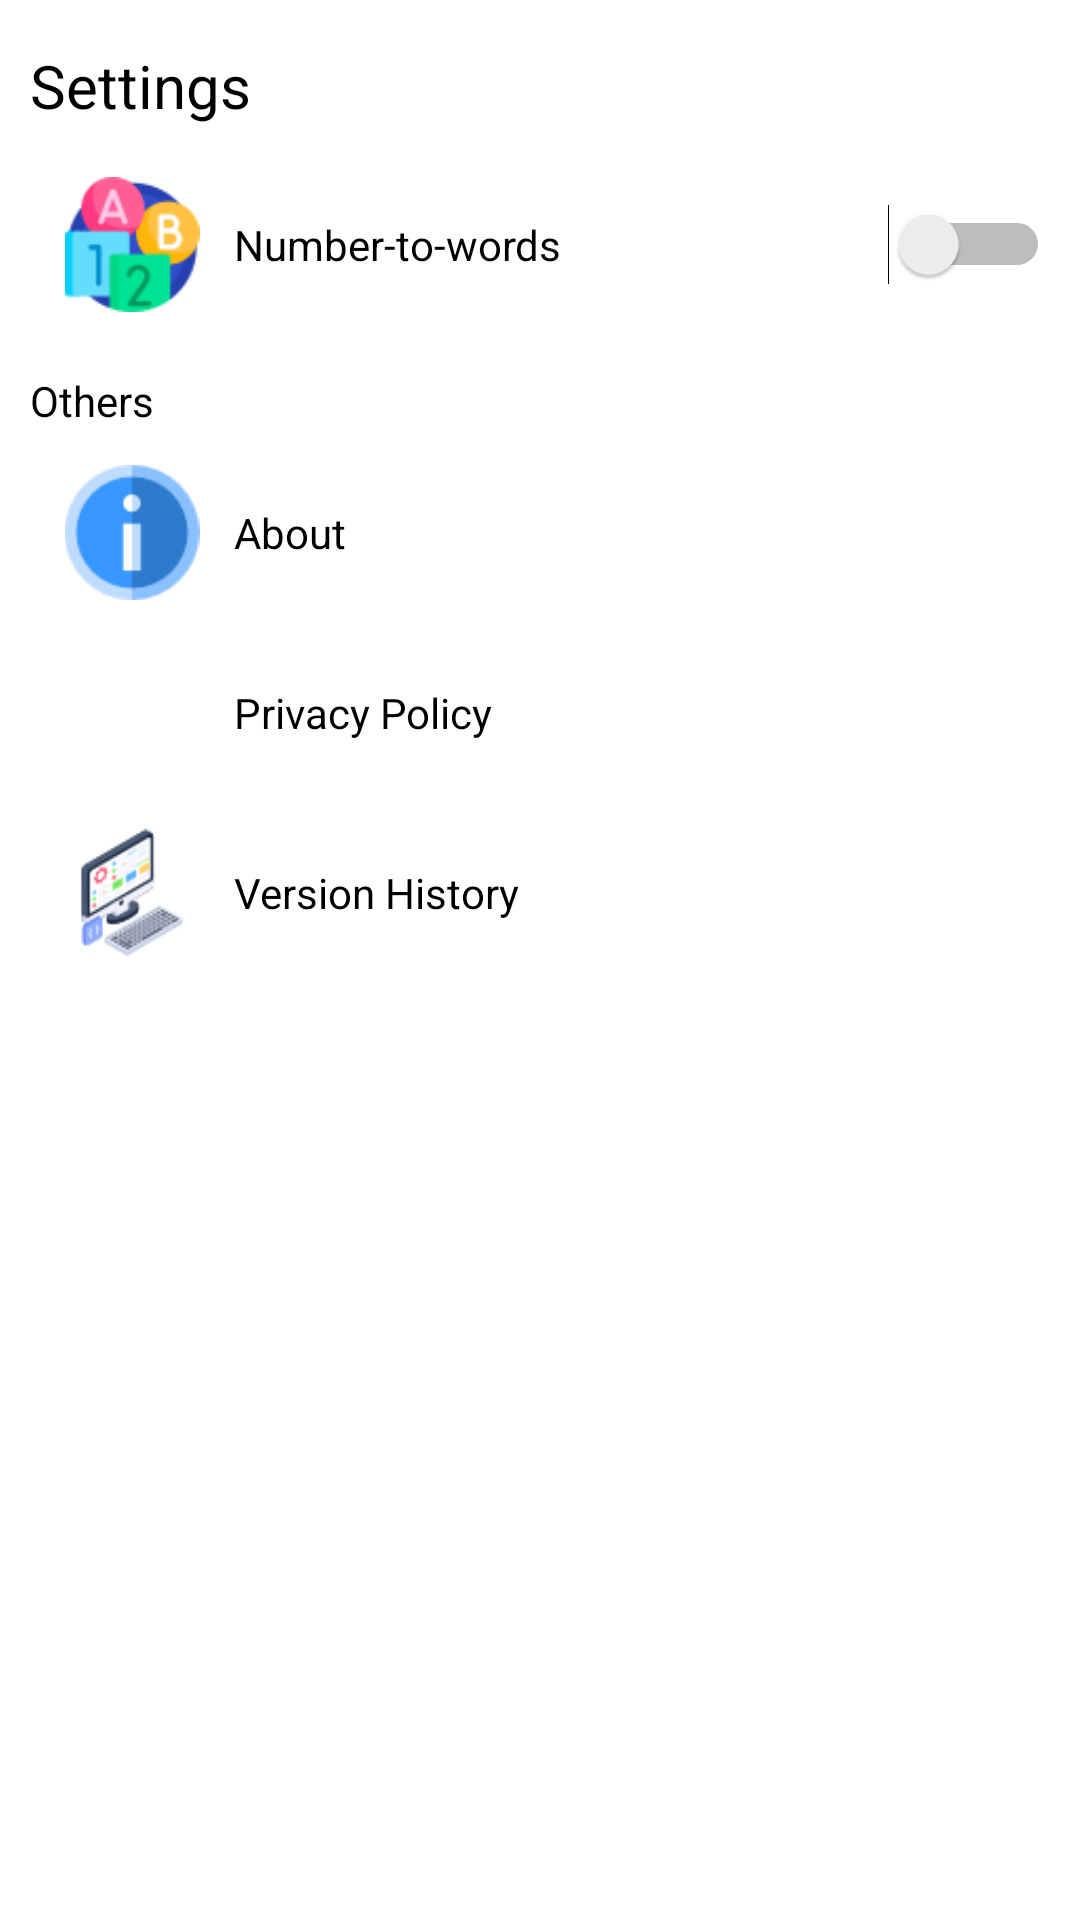

Screen size 1080 × 1920. Icon name, then its box in pixels as {"x1": x1, "y1": y1, "x2": x2, "y2": y2}:
numberstowords: {"x1": 65, "y1": 177, "x2": 200, "y2": 312}
